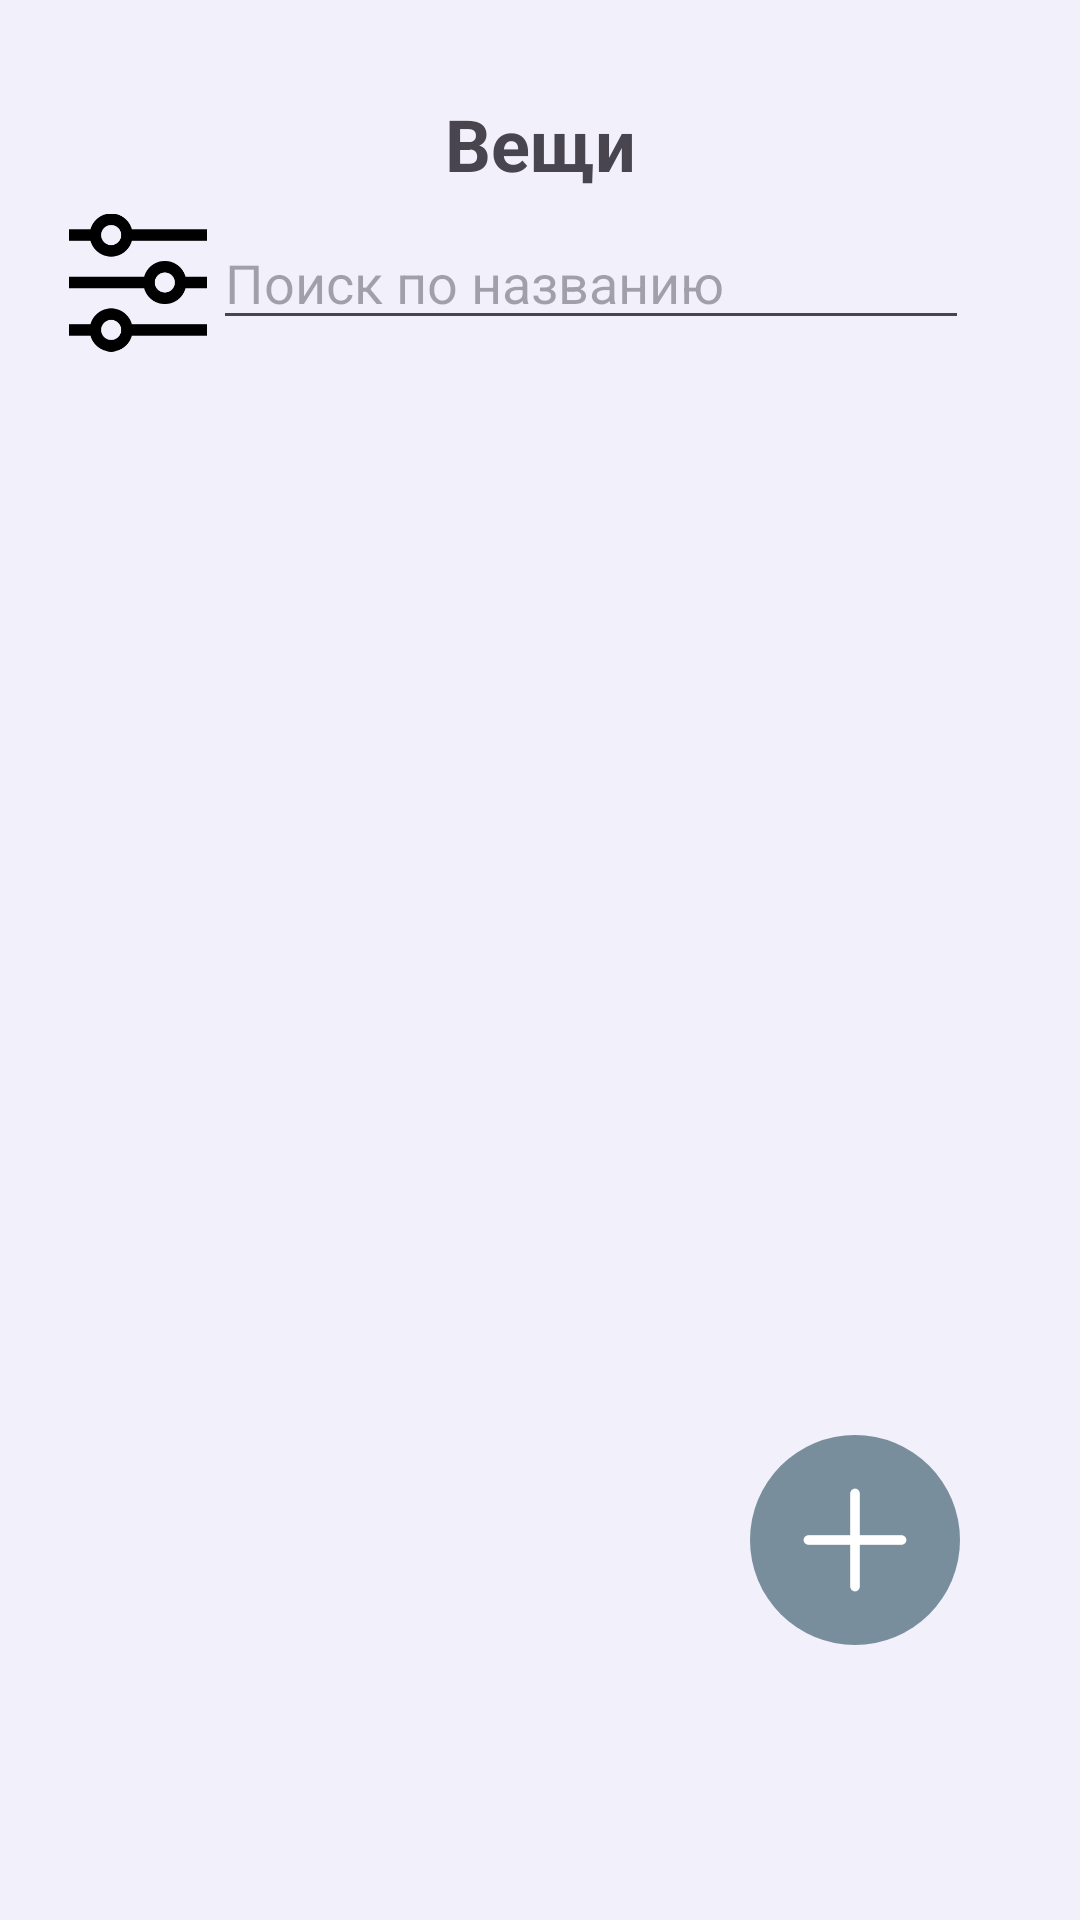

Named icons in this screenshot (1080px x 1920px) and their bounding boxes, [left=x1, top=y1, right=x2, bottom=y2]:
plus: [left=803, top=1488, right=907, bottom=1592]
